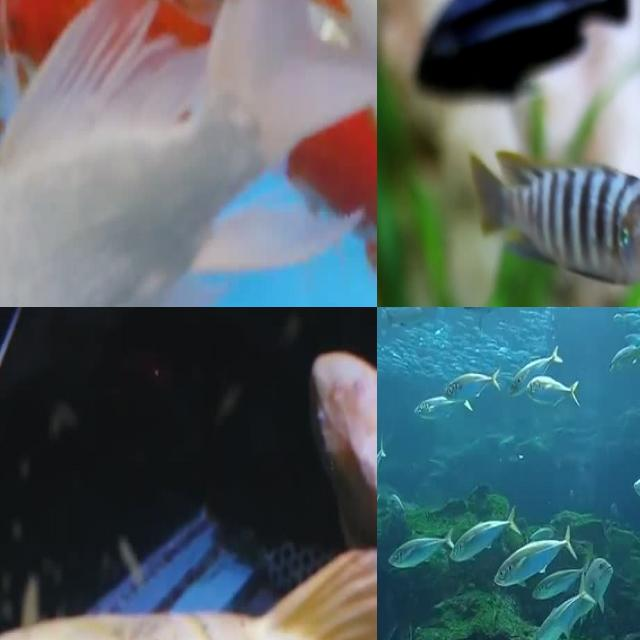fish: (0, 0, 377, 307), (292, 324, 377, 640), (496, 528, 579, 590)
